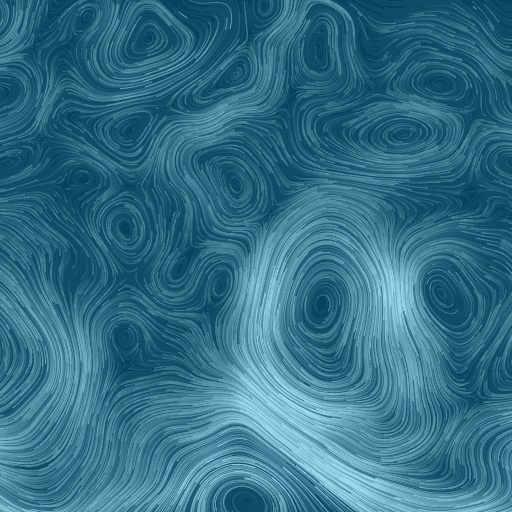eddy: (261, 234, 387, 390), (108, 5, 192, 75), (413, 255, 473, 333), (362, 110, 443, 159), (290, 13, 343, 84), (191, 51, 256, 107), (96, 197, 151, 258), (407, 61, 474, 104), (101, 107, 150, 152), (212, 163, 256, 210), (58, 162, 99, 197), (204, 262, 235, 306), (106, 323, 143, 358), (160, 250, 193, 288), (68, 3, 101, 39)
